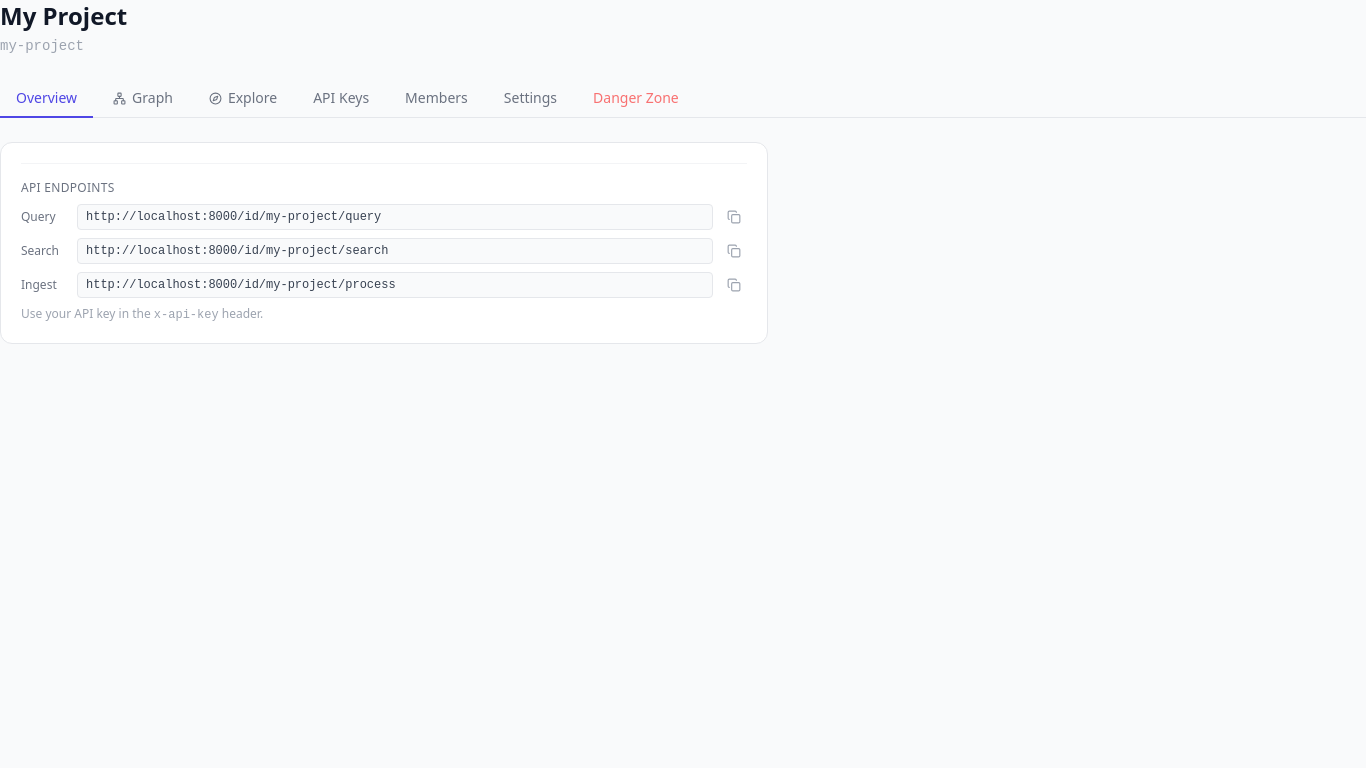
ProjectDetail page › API Keys tab › shows RawKeyModal with the raw_key after creating a key
expect the heading "My Project" is shown: met, box [0,0,127,32]
Click the tab "API Keys" at (341, 99), box [297,80,385,118]
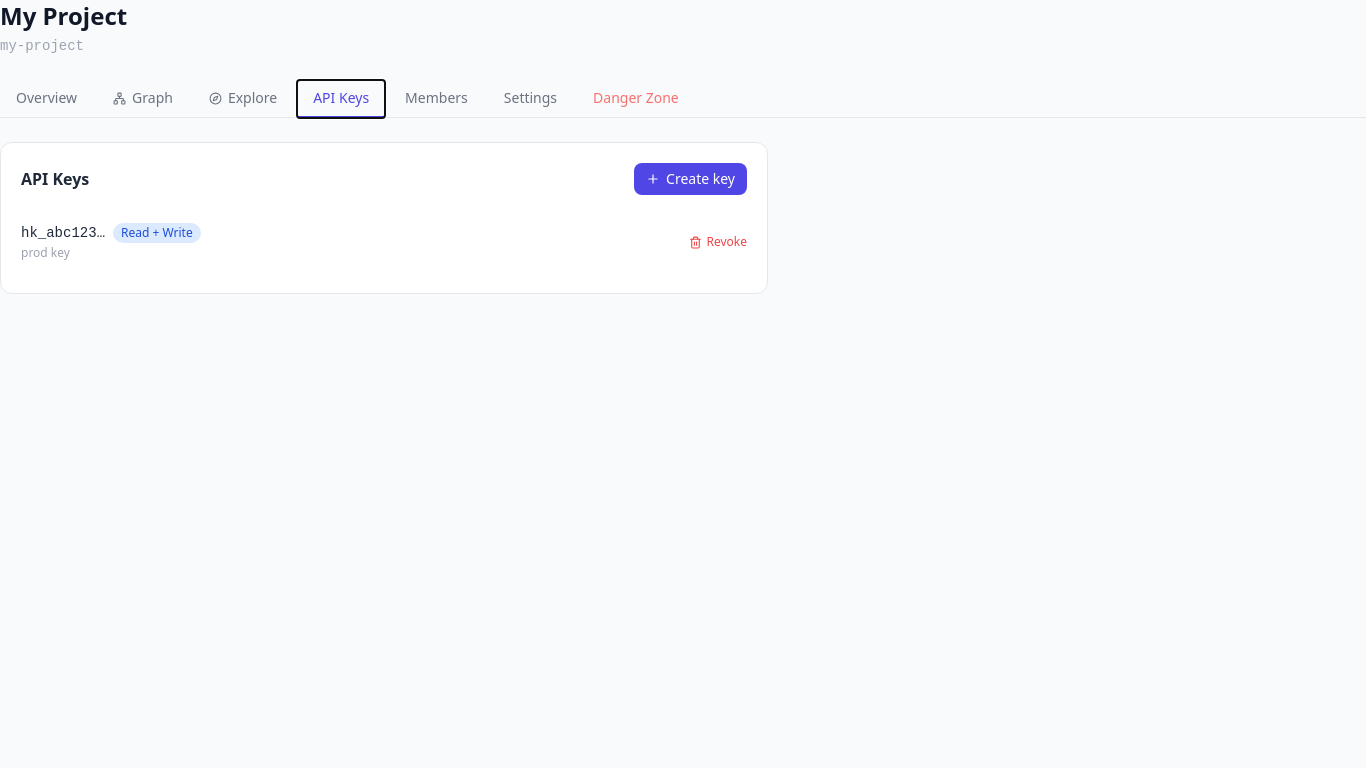
expect the button "Create key" is shown: met
Click the button "Create key" at (691, 179), box [634,163,747,195]
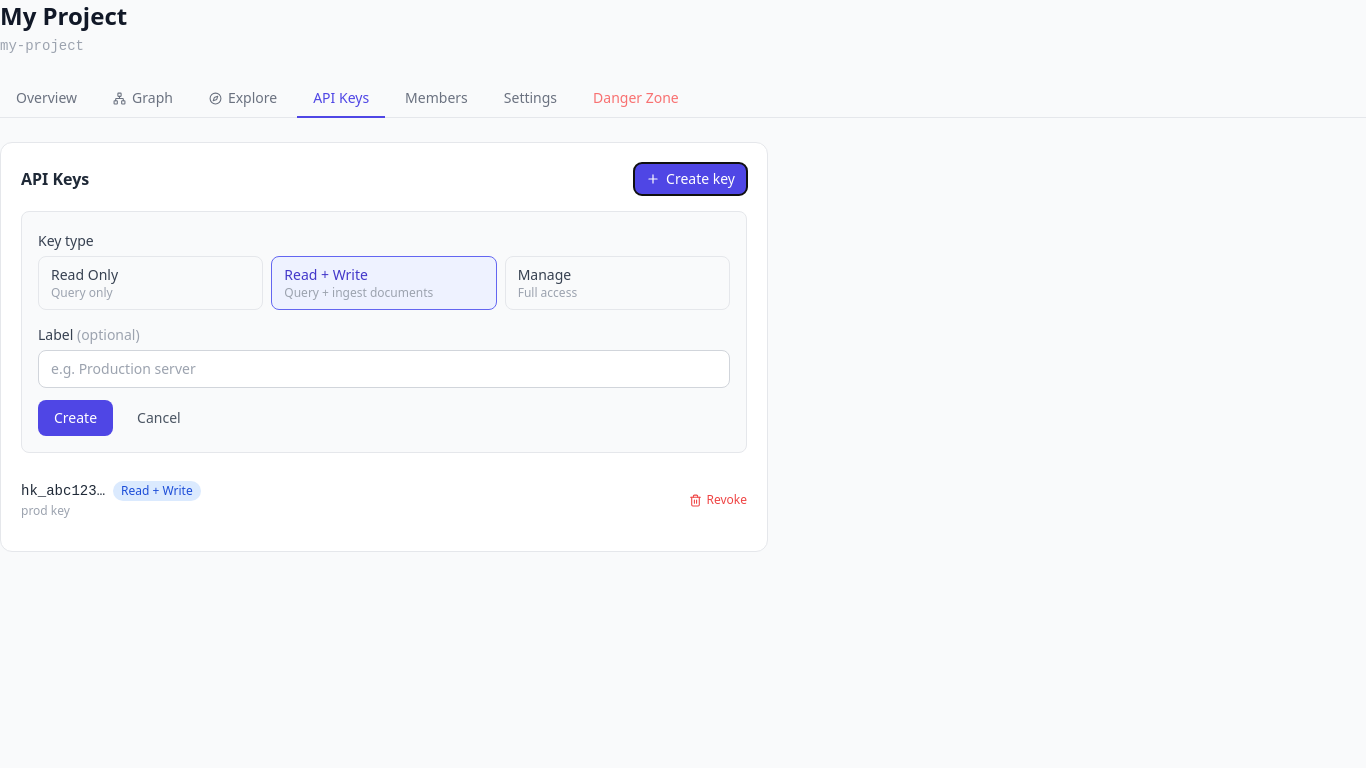
Note: Click the Create button in the form
Click the button "Create" at (76, 418), box [38,400,113,436]
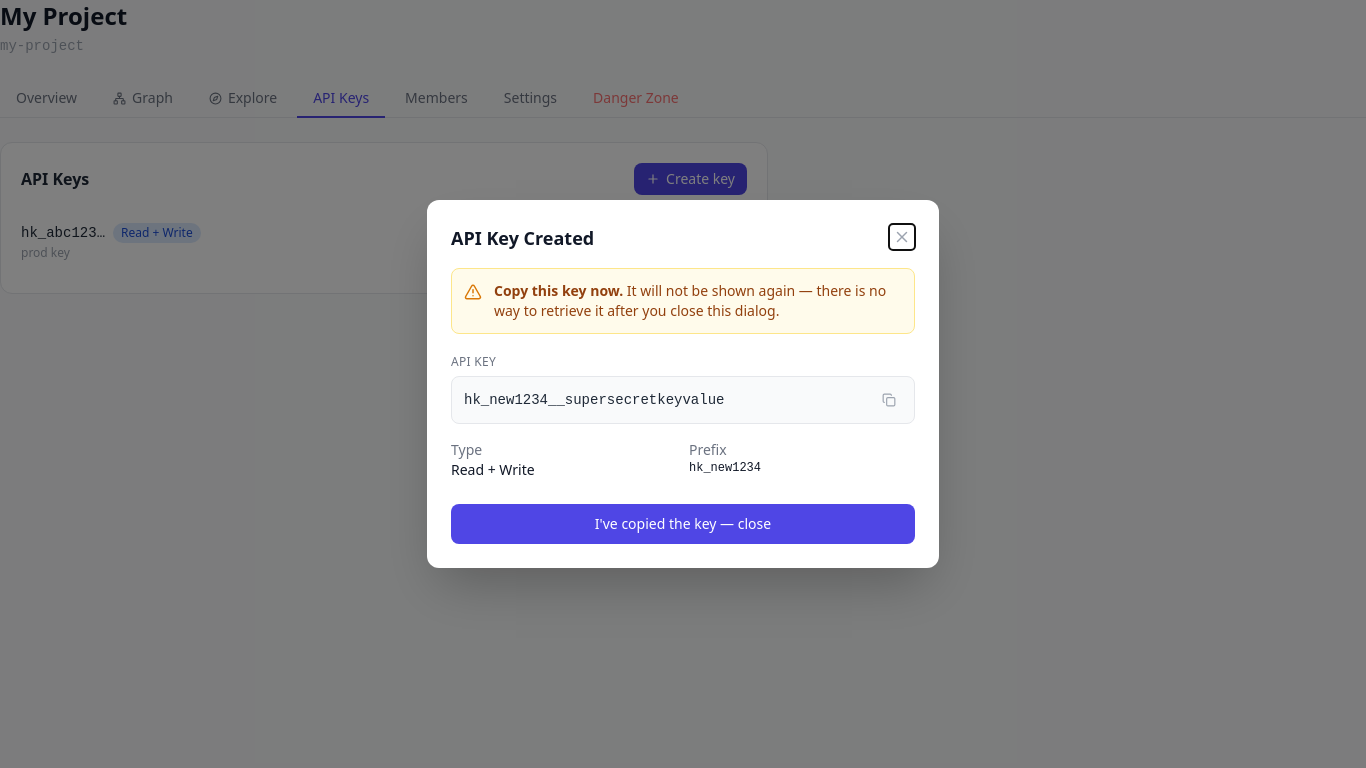
expect the text "hk_new1234__supersecretkeyvalue" is shown: met, box [464,392,724,408]
expect the text "Copy this key now." is shown: met, box [494,281,623,300]
